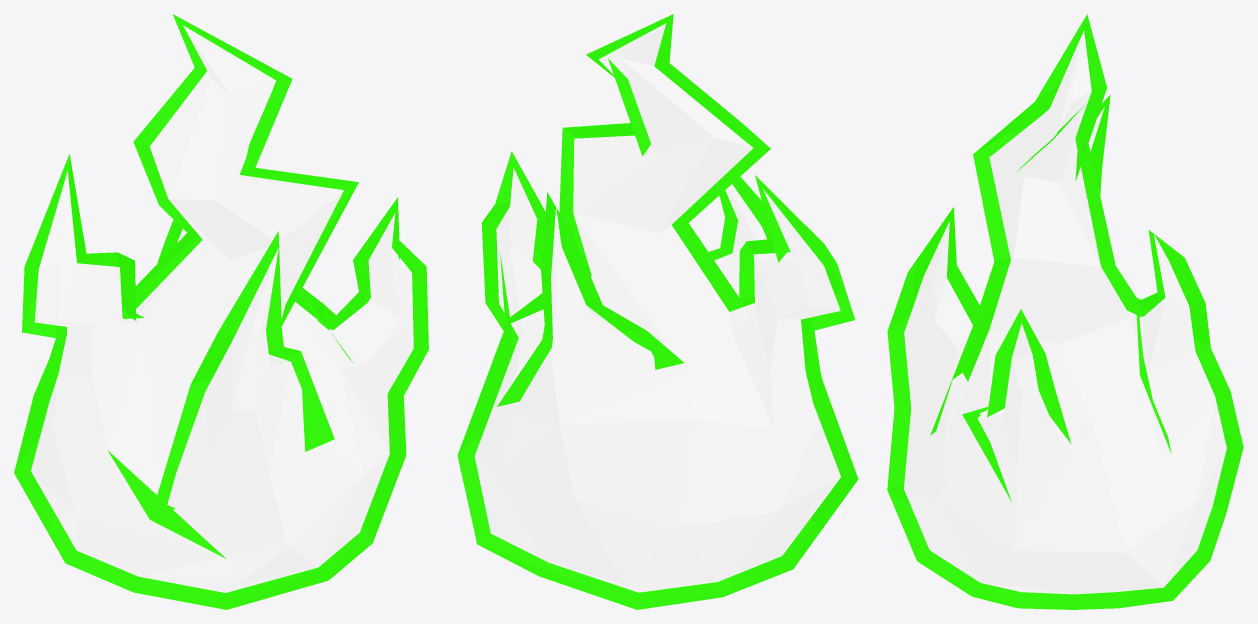
The model's file is Soul.glb.
3 views of the same model, side by side, from view 1: azimuth 30°, elevation 25°; view 2: azimuth 150°, elevation 25°; view 3: azimuth 270°, elevation 25° (orthographic). The views are drawn at different scales.
Parts seen in each view (by area): view 1: Icosphere; view 2: Icosphere; view 3: Icosphere.
Part boxes in pixels (x1,y1,x2,y2): Icosphere: [14, 14, 428, 609]; Icosphere: [457, 14, 858, 609]; Icosphere: [887, 14, 1243, 609].
Size of the model in its own units: 2.88 by 4.11 by 2.34.
